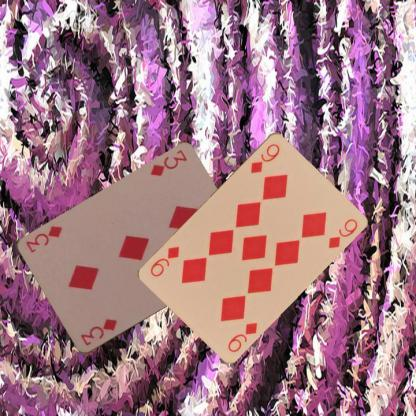3d: (78, 316, 118, 347), (148, 147, 188, 178)
9d: (225, 319, 259, 354), (248, 140, 281, 174)
